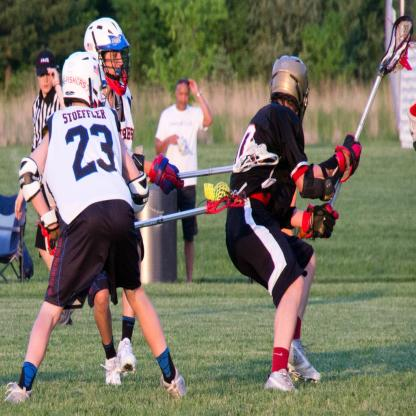Helmet: (83, 15, 131, 96), (269, 54, 308, 129), (61, 51, 108, 107)
